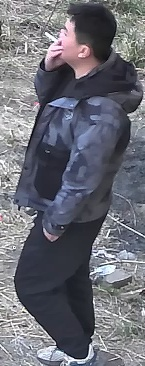smoking: (30, 3, 136, 83)
